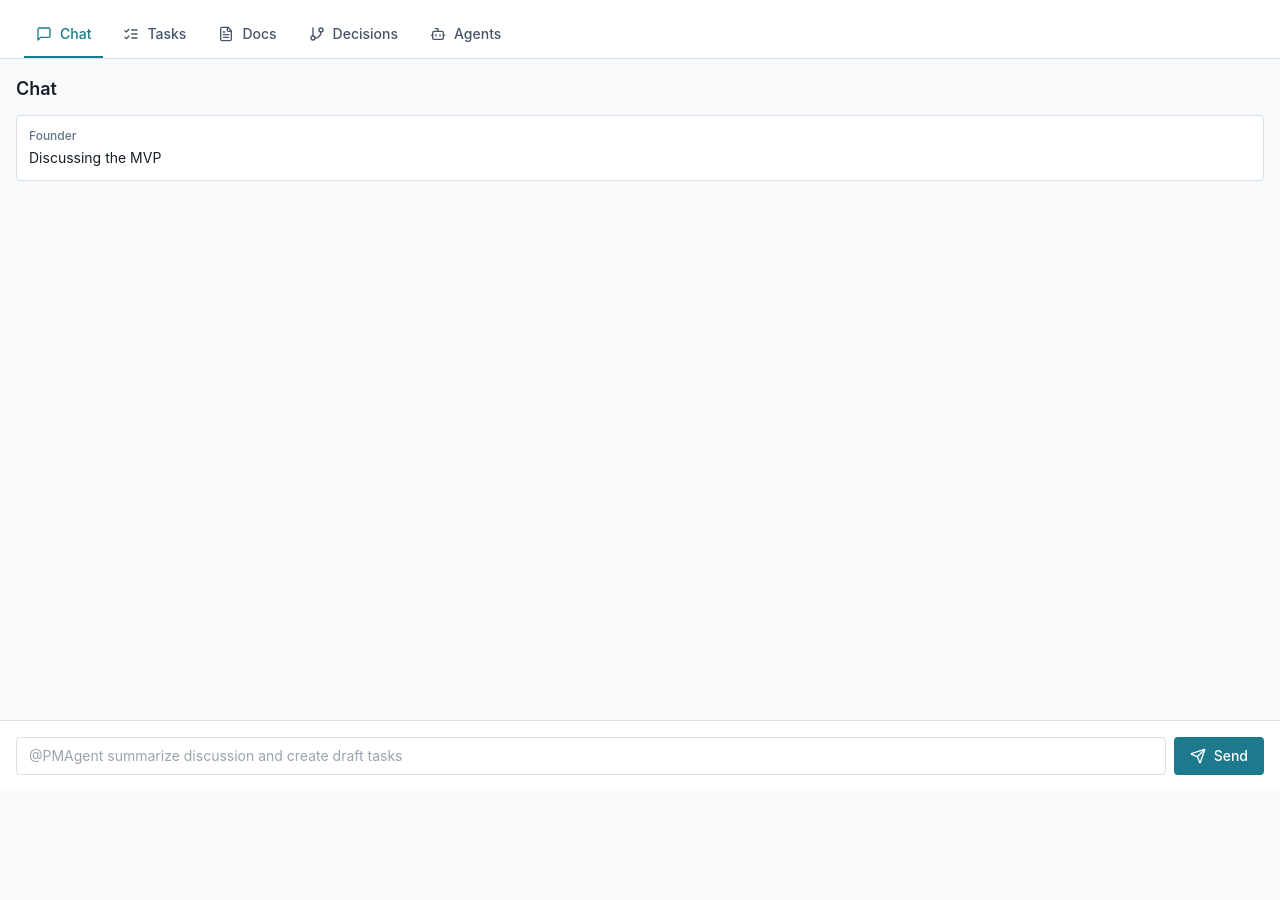
Test case: RoomTabs › shows failed run details without leaking provider secrets
The width and height of the screenshot is (1280, 900).
What coordinates should you click on to do the following:
click the button "Agents"
I would click on:
 (466, 35)
Its box is x1=418 y1=12 x2=513 y2=58.
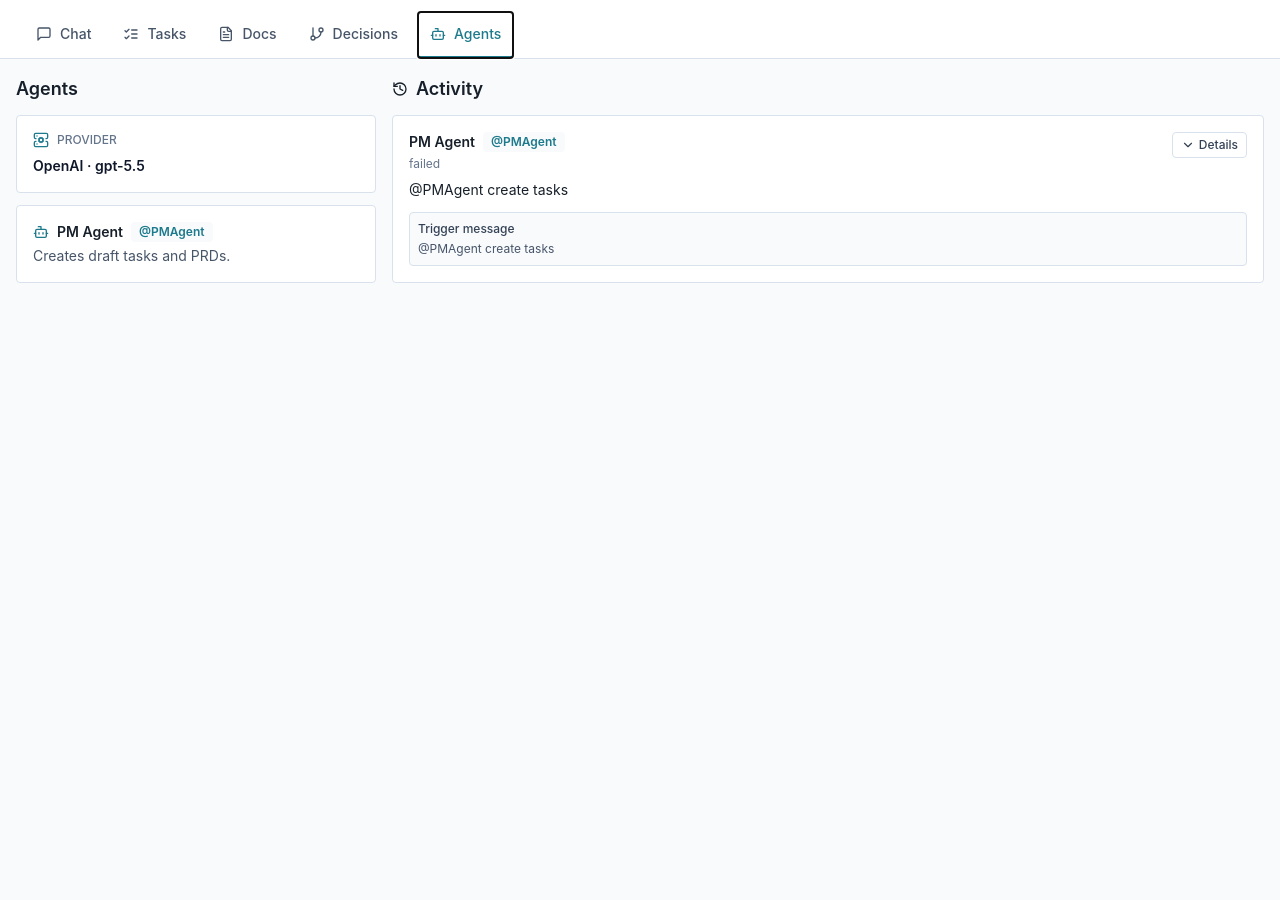
What coordinates should you click on to do the following:
click the button "Details"
I would click on:
 (1209, 145)
Its box is x1=1172 y1=132 x2=1247 y2=158.
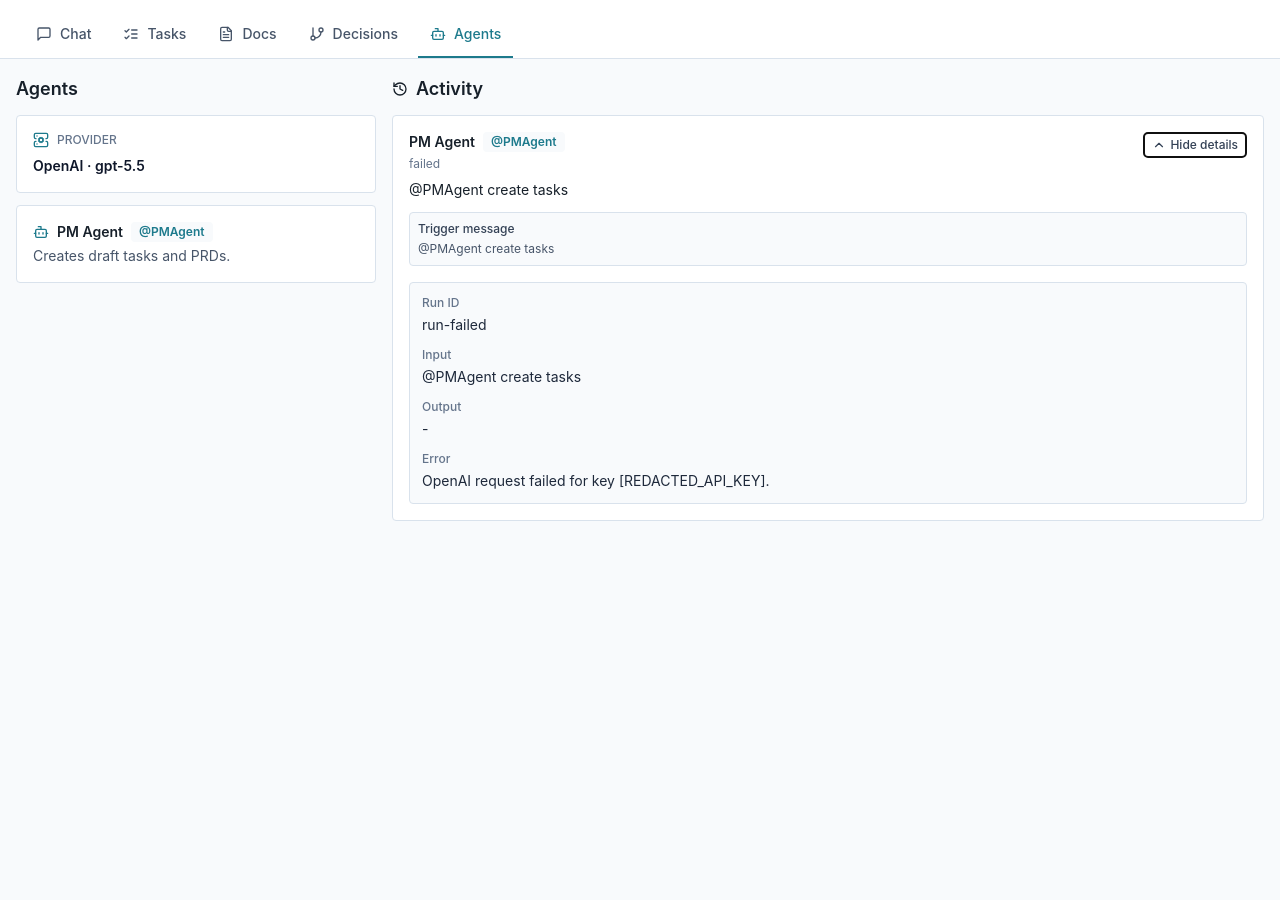
Check: the text "Error" is shown, box x1=422 y1=451 x2=450 y2=466
Check: the text "OpenAI request failed for key [REDACTED_API_KEY]." is shown, box x1=422 y1=472 x2=770 y2=489
